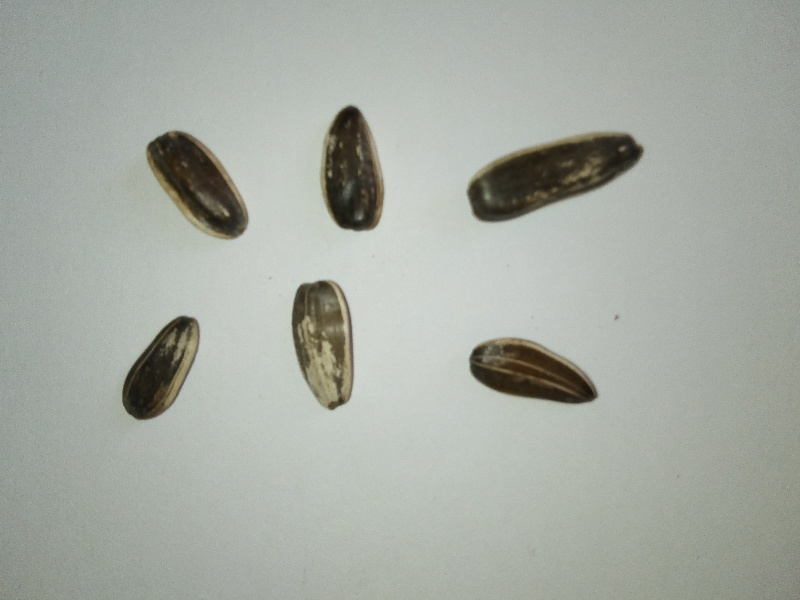girasol: (459, 120, 648, 236), (138, 124, 252, 248), (286, 275, 375, 426), (111, 310, 209, 426), (461, 336, 607, 410), (316, 99, 390, 239)
